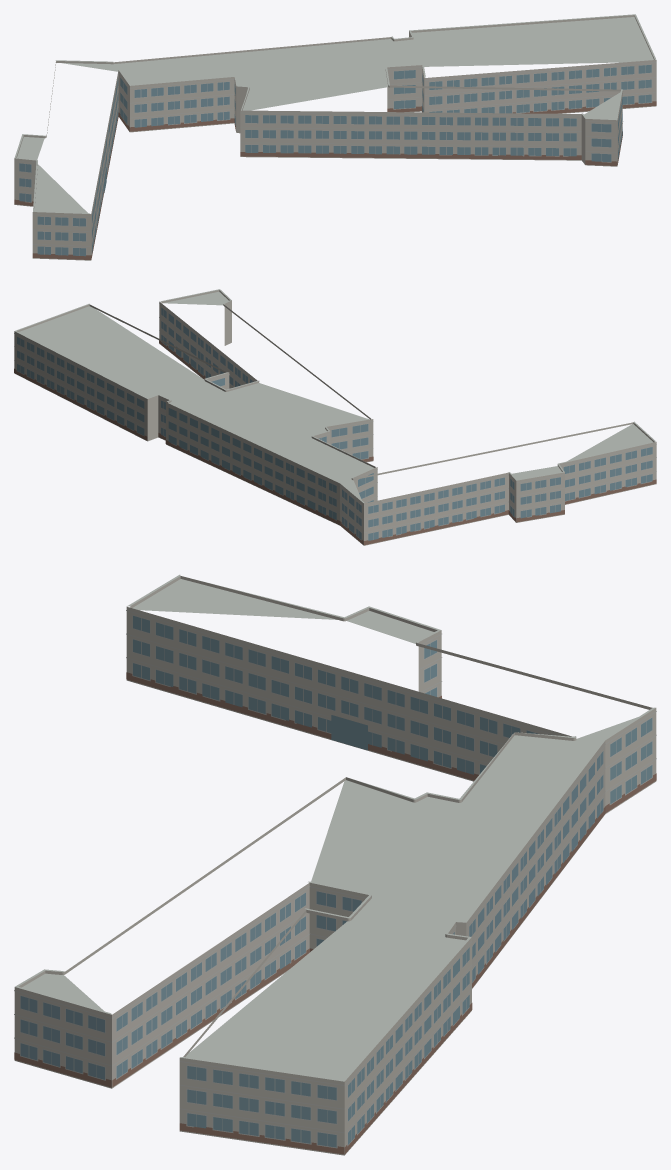
Rendered from public-a5237773-9aad-4a71-ae3f-ba8f48d01e87.glb.
3 renders of one model, top to bottom at view 1: azimuth 30°, elevation 25°; view 2: azimuth 150°, elevation 25°; view 3: azimuth 270°, elevation 25°, orthographic. The views are drawn at different scales.
Visible parts, largest first — view 1: public-a5237773-9aad-4a71-ae3f-ba8f48d01e87; view 2: public-a5237773-9aad-4a71-ae3f-ba8f48d01e87; view 3: public-a5237773-9aad-4a71-ae3f-ba8f48d01e87.
Boxes of the visible parts, x1=… form: public-a5237773-9aad-4a71-ae3f-ba8f48d01e87: x1=14, y1=14, x2=656, y2=260; public-a5237773-9aad-4a71-ae3f-ba8f48d01e87: x1=14, y1=289, x2=656, y2=545; public-a5237773-9aad-4a71-ae3f-ba8f48d01e87: x1=14, y1=574, x2=656, y2=1155.
Size of the model in its own units: 135 by 9.15 by 72.16.
